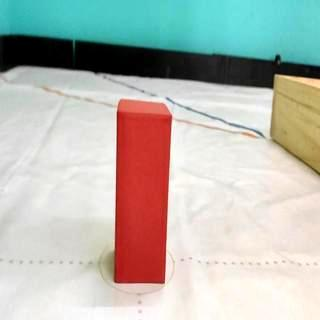redbox: (114, 98, 172, 284)
